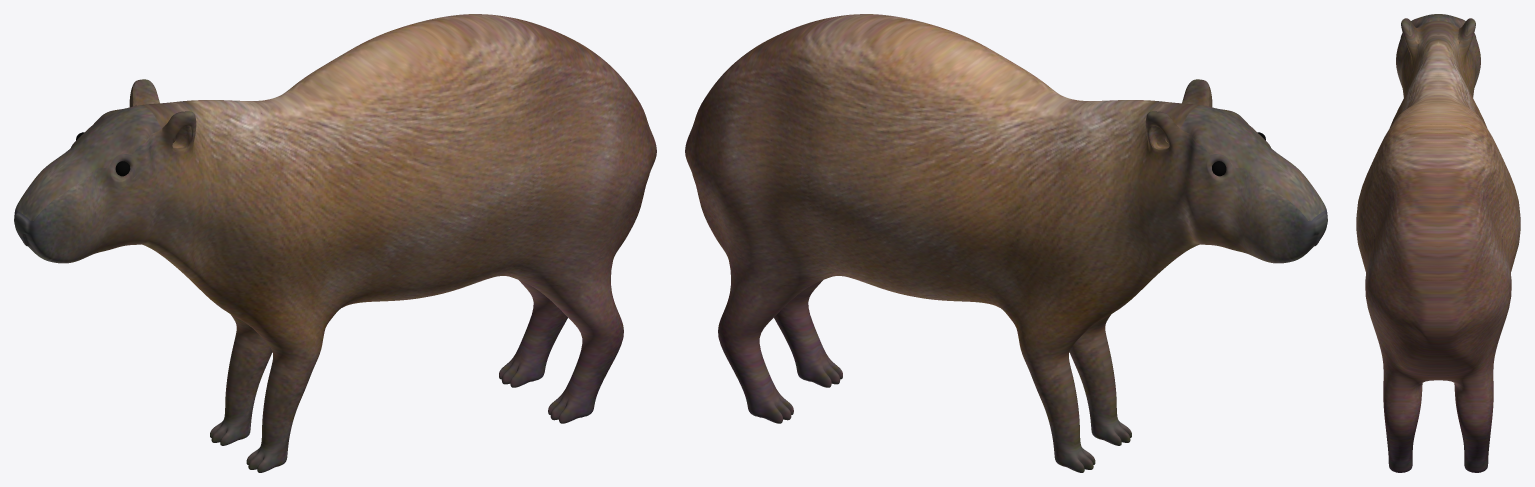
Rendered from capybara.glb.
The picture shows the model from 3 angles, left to right: view 1: azimuth 30°, elevation 25°; view 2: azimuth 150°, elevation 25°; view 3: azimuth 270°, elevation 25°; orthographic projection. The views are drawn at different scales.
Parts seen in each view (by area): view 1: Cube.015; view 2: Cube.015; view 3: Cube.015.
Part boxes in pixels (x1=…): Cube.015: x1=14, y1=14, x2=656, y2=472; Cube.015: x1=685, y1=14, x2=1327, y2=472; Cube.015: x1=1356, y1=14, x2=1520, y2=472.
Size of the model in its own units: 5.11 by 3.08 by 1.51.
2 materials, 1 textured.
